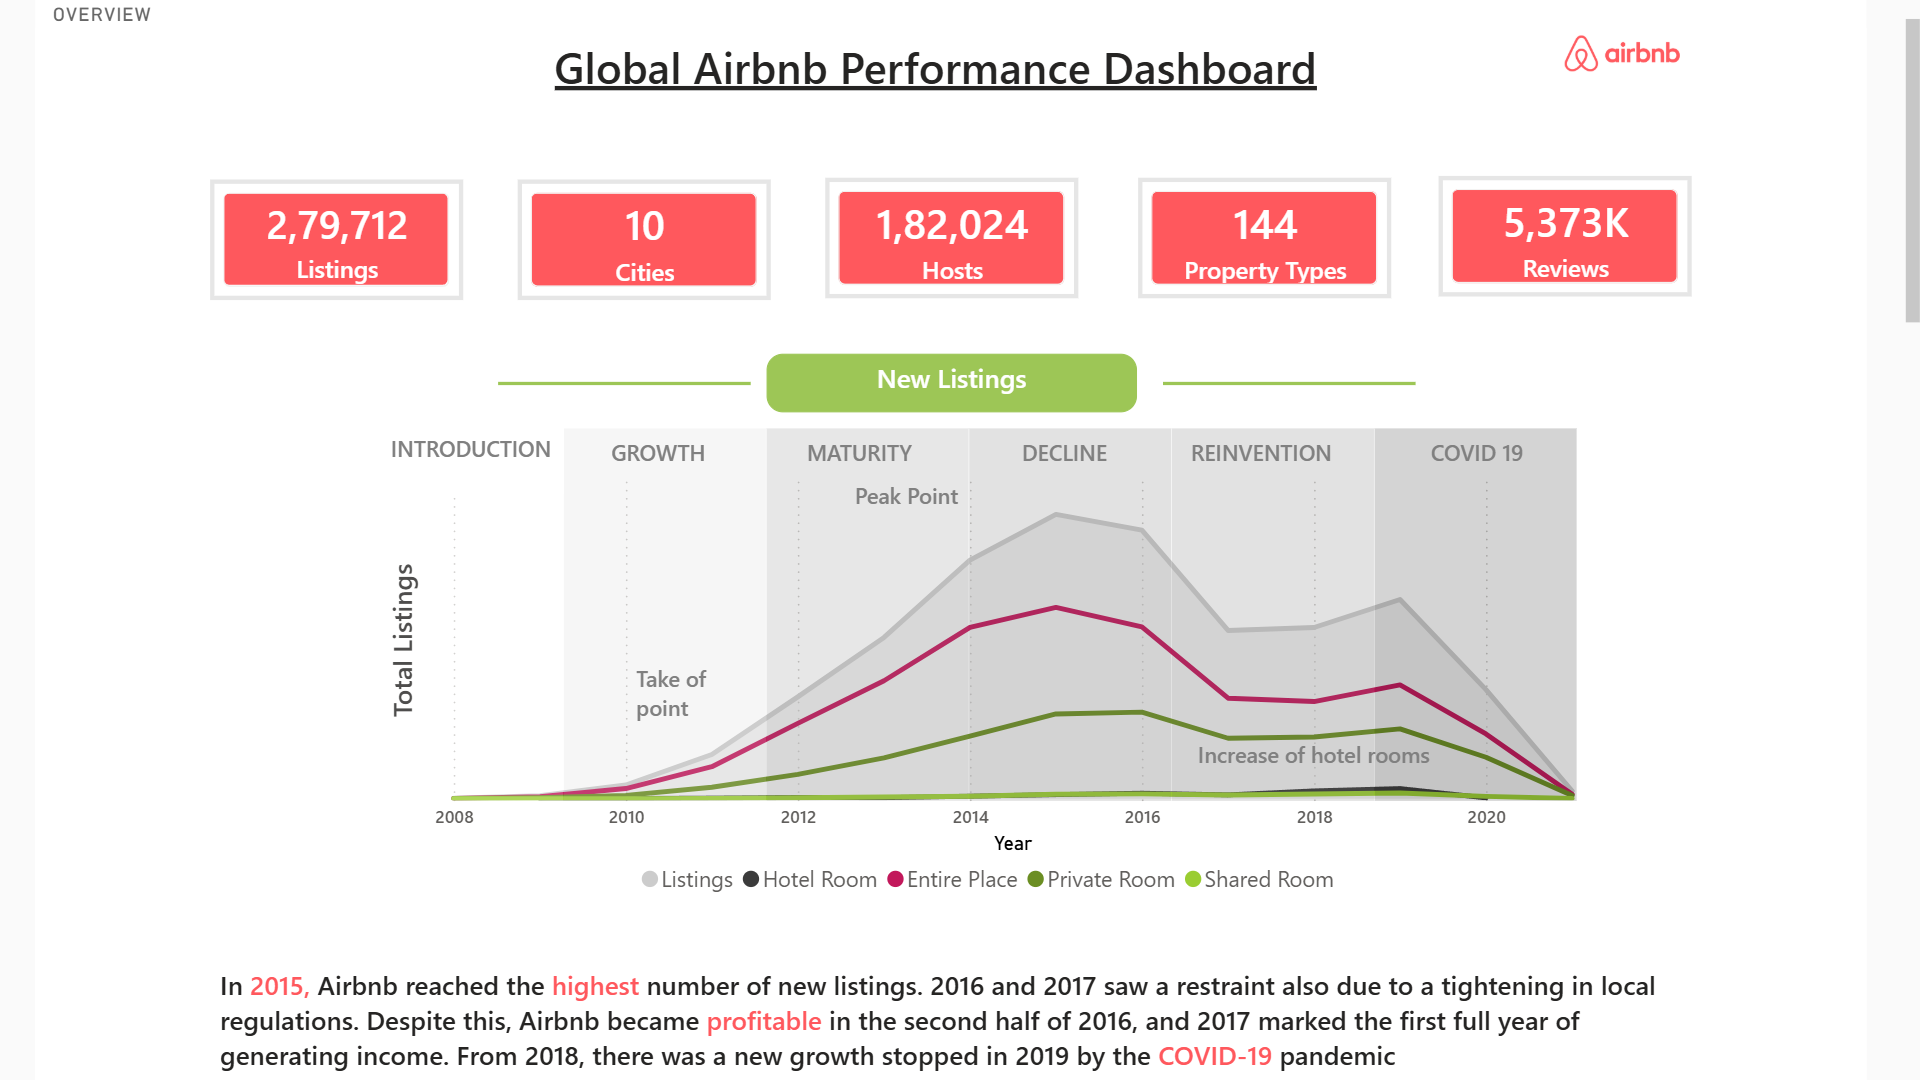

The page's visual inventory and layout, read from the dashboard file:
{"tool":"powerbi","page":{"name":"Overview","canvas":[960,720],"ordinal":0},"visuals":[{"type":"textbox","box":[231.4,0,497.1,51.8],"z":0},{"type":"image","box":[836,4,112,22],"z":1000},{"type":"cardVisual","fields":{"Data":["CountNonNull(Listings.listing_id)"]},"box":[24.8,92.3,155,74],"z":2000},{"type":"cardVisual","fields":{"Data":["Count(Listings.city)"]},"box":[213.9,92.3,155,74],"z":3000},{"type":"cardVisual","fields":{"Data":["Count(Listings.host_id)"]},"box":[402.5,91.7,155,74],"z":4000},{"type":"cardVisual","fields":{"Data":["Count(Listings.property_type)"]},"box":[594.2,91.7,155,74],"z":5000},{"type":"cardVisual","fields":{"Data":["Count(Reviews.review_id)"]},"box":[779.2,90.8,155,74],"z":6000},{"type":"lineChart","fields":{"Category":["Listings.host_since.Variation.Date Hierarchy.Year"],"Y":["CountNonNull(Listings.listing_id)","Listings.Hotel Room","Listings.Entire Place","Listings.Private Room","Listings.Shared Room"]},"box":[131.4,264.3,746.7,276.7],"z":7000},{"type":"textbox","box":[366.4,200,227.1,35.7],"z":8000},{"type":"shape","box":[201.4,142.9,155,150],"z":9000},{"type":"shape","box":[609.3,142.9,155,150],"z":10000},{"type":"textbox","box":[26,570,910,88],"z":11000},{"type":"shape","box":[117.8,245.6,124.3,228.6],"z":12000},{"type":"shape","box":[242.2,245.6,124.3,228.6],"z":13000},{"type":"shape","box":[366.7,245.6,124.3,228.6],"z":14000},{"type":"shape","box":[491.1,245.6,124.3,228.6],"z":15000},{"type":"shape","box":[615.6,245.6,124.3,228.6],"z":16000},{"type":"shape","box":[740,245.6,124.3,228.6],"z":17000},{"type":"textbox","box":[131.4,242.9,111.4,42.9],"z":18000},{"type":"textbox","box":[518.6,245.7,91.4,42.9],"z":19000},{"type":"textbox","box":[621.4,245.7,111.4,35.7],"z":20000},{"type":"textbox","box":[768.6,245.7,68.6,42.9],"z":21000},{"type":"textbox","box":[265.7,245.7,75.7,42.9],"z":22000},{"type":"textbox","box":[385.7,245.7,84.3,42.9],"z":23000},{"type":"textbox","box":[281.4,384.3,60,47.1],"z":24000},{"type":"textbox","box":[415.7,271.4,88.6,42.9],"z":25000},{"type":"textbox","box":[625.7,431.4,177.1,42.9],"z":26000}]}

Visuals, with their boxes on the page's 960x720 design canvas (x1, y1, x2, y2). These are canvas units, not pixel positions in the 1920x1080 screenshot, which may show the page scaled, cropped or inside an application window:
textbox: bbox(231, 0, 728, 52)
image: bbox(836, 4, 948, 26)
cardVisual - CountNonNull(Listings.listing_id): bbox(25, 92, 180, 166)
cardVisual - Count(Listings.city): bbox(214, 92, 369, 166)
cardVisual - Count(Listings.host_id): bbox(402, 92, 558, 166)
cardVisual - Count(Listings.property_type): bbox(594, 92, 749, 166)
cardVisual - Count(Reviews.review_id): bbox(779, 91, 934, 165)
lineChart - Listings.host_since.Variation.Date Hierarchy.Year x CountNonNull(Listings.listing_id): bbox(131, 264, 878, 541)
textbox: bbox(366, 200, 594, 236)
shape: bbox(201, 143, 356, 293)
shape: bbox(609, 143, 764, 293)
textbox: bbox(26, 570, 936, 658)
shape: bbox(118, 246, 242, 474)
shape: bbox(242, 246, 366, 474)
shape: bbox(367, 246, 491, 474)
shape: bbox(491, 246, 615, 474)
shape: bbox(616, 246, 740, 474)
shape: bbox(740, 246, 864, 474)
textbox: bbox(131, 243, 243, 286)
textbox: bbox(519, 246, 610, 289)
textbox: bbox(621, 246, 733, 281)
textbox: bbox(769, 246, 837, 289)
textbox: bbox(266, 246, 341, 289)
textbox: bbox(386, 246, 470, 289)
textbox: bbox(281, 384, 341, 431)
textbox: bbox(416, 271, 504, 314)
textbox: bbox(626, 431, 803, 474)
